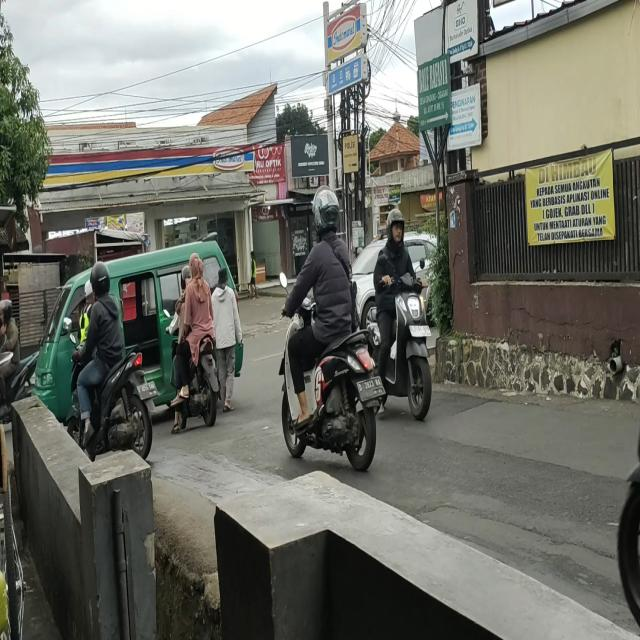helmet: (308, 184, 339, 236), (382, 202, 406, 242), (89, 260, 112, 300), (0, 297, 11, 324), (180, 266, 189, 288)
no-helmet: (190, 253, 203, 281)
